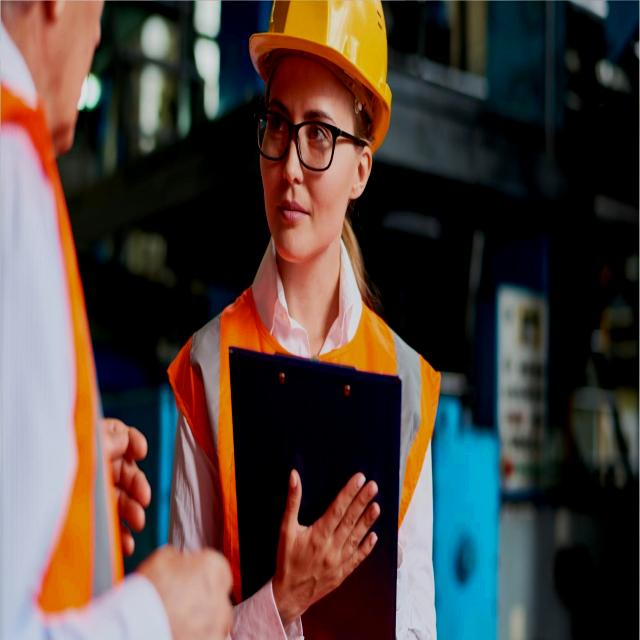face_nomask: (243, 58, 371, 249)
glasses: (252, 102, 339, 178)
hand_noglove: (256, 450, 394, 620), (84, 404, 152, 552)
head_helmet: (244, 0, 398, 116)
person: (190, 13, 480, 640), (2, 1, 182, 628)
vest: (181, 267, 409, 630)
